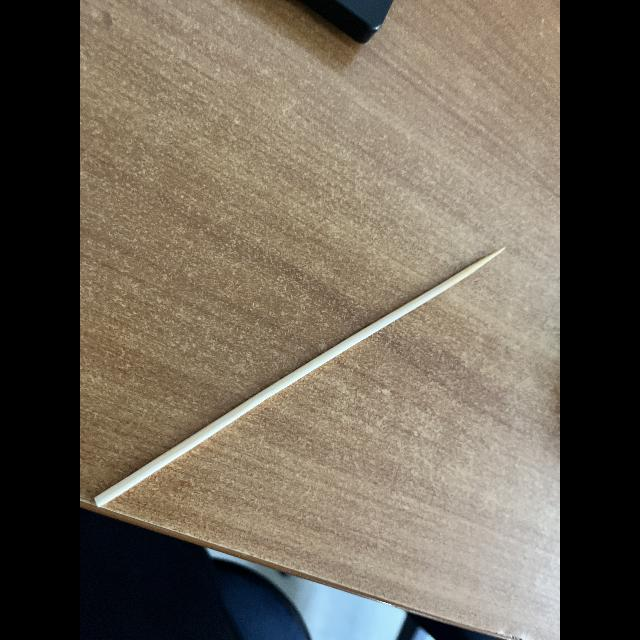stick: (80, 231, 520, 533)
